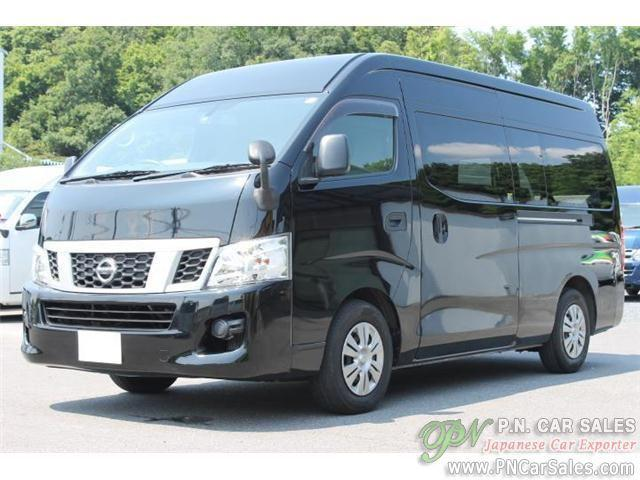Van: (28, 50, 628, 411)
